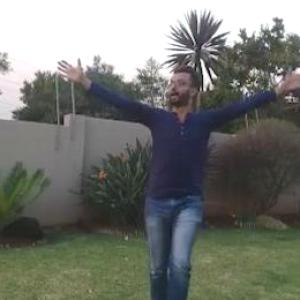takeoff: (56, 45, 299, 299)
